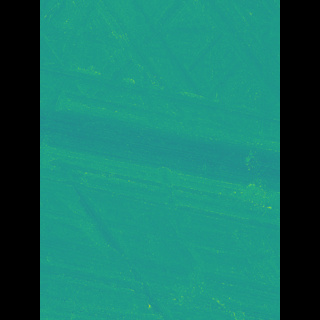Loch: (68, 0, 251, 133), (69, 155, 197, 320)
